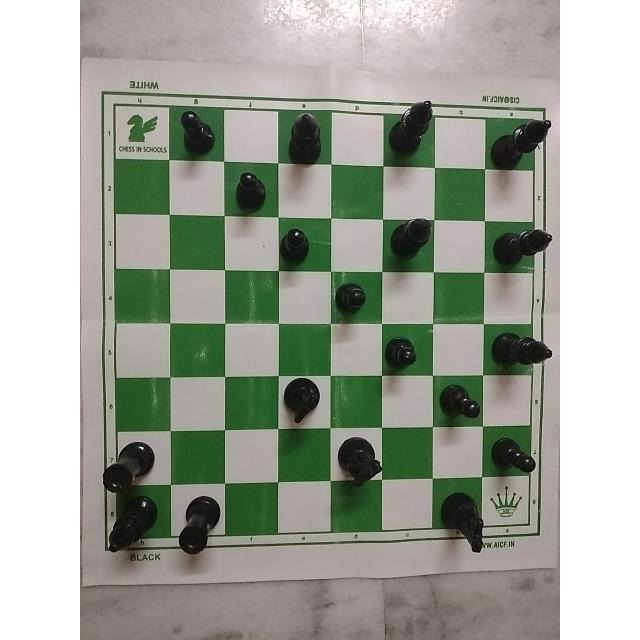black-bishop: (485, 108, 555, 172), (98, 490, 161, 558), (387, 94, 441, 160), (483, 223, 557, 264), (493, 328, 557, 375), (284, 110, 330, 174), (387, 211, 432, 263)
black-knight: (439, 478, 507, 554), (277, 367, 329, 428), (329, 431, 383, 484)
black-pawn: (487, 424, 543, 476), (168, 104, 226, 152), (436, 377, 486, 427), (330, 277, 382, 317), (384, 328, 422, 378), (275, 222, 317, 262), (236, 163, 269, 213)
black-rook: (99, 439, 157, 499), (176, 490, 222, 557)
